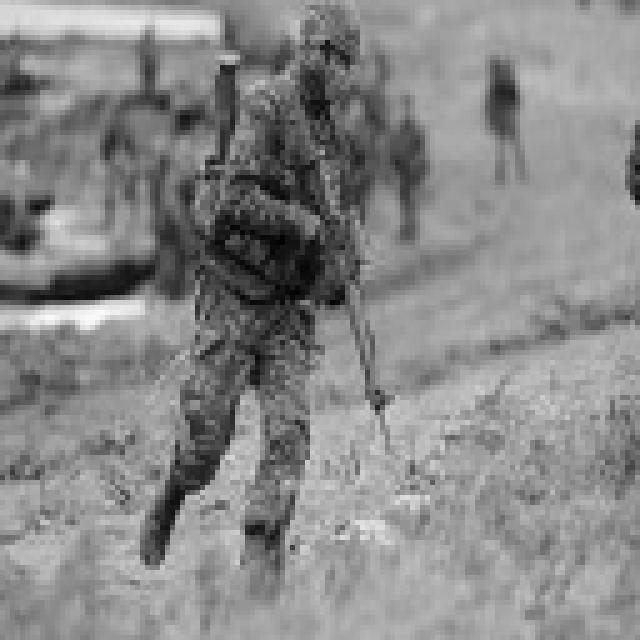Rifle: (244, 87, 467, 477)
